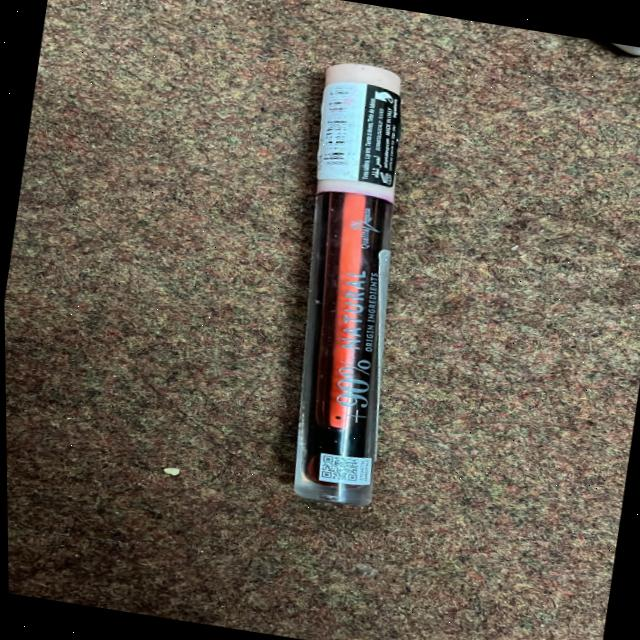lip gloss: (220, 36, 476, 528)
